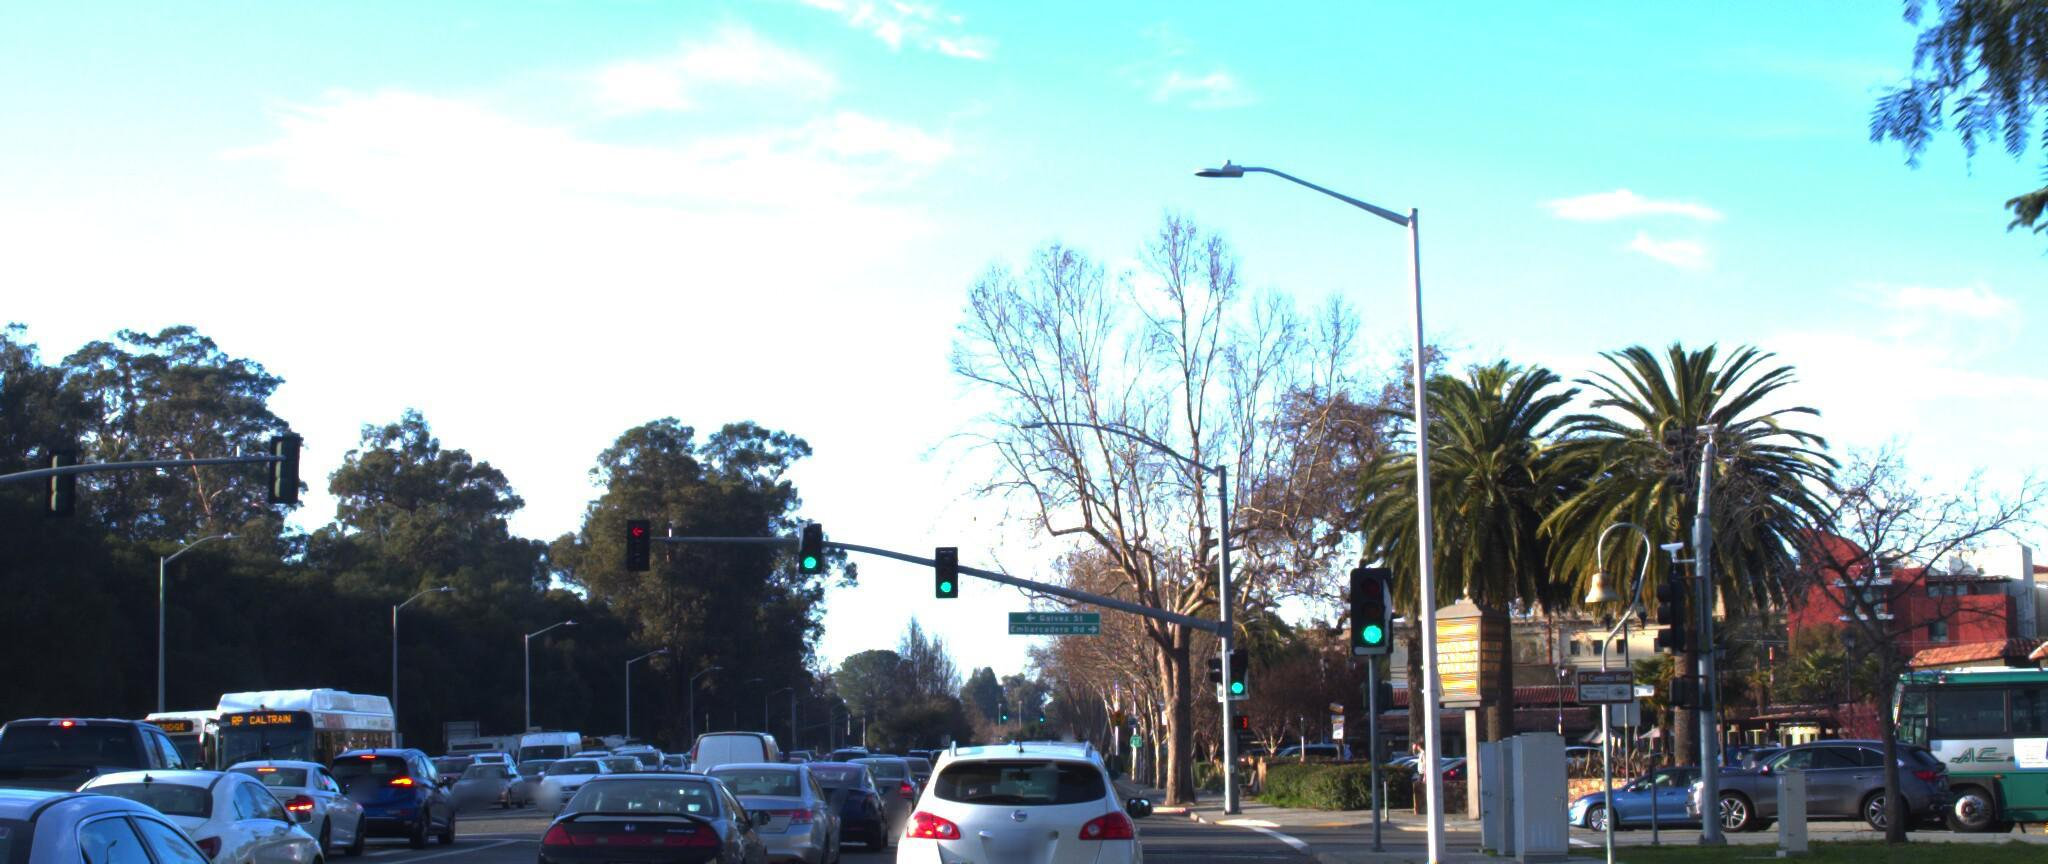bus: (1840, 623, 2048, 831), (204, 672, 423, 827)
car: (34, 707, 342, 864), (0, 668, 229, 864), (882, 710, 1151, 864), (0, 749, 360, 864), (178, 701, 404, 850), (537, 736, 777, 864), (1659, 717, 1947, 820), (683, 726, 856, 864), (303, 703, 485, 834), (1543, 743, 1765, 824), (692, 713, 795, 800), (835, 726, 933, 810), (2000, 714, 2048, 824), (532, 736, 615, 795)
